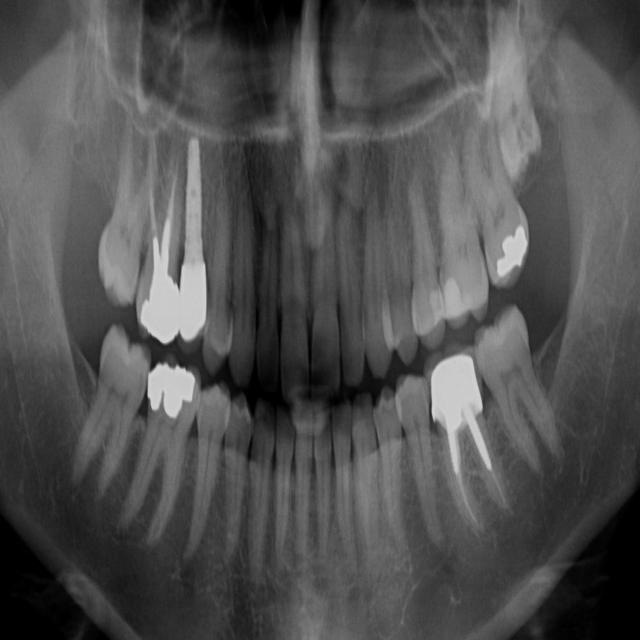dentin-curugu: (255, 339, 278, 386), (307, 357, 330, 389)
dolgu: (492, 222, 528, 278)
implant: (179, 119, 209, 350)
kanal-tedavisi: (433, 423, 512, 531), (145, 138, 181, 294)
kaplama: (425, 360, 481, 420), (132, 273, 180, 338), (148, 362, 195, 416)
